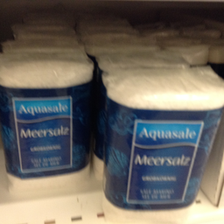spices: (103, 72, 224, 211), (1, 53, 95, 181)
